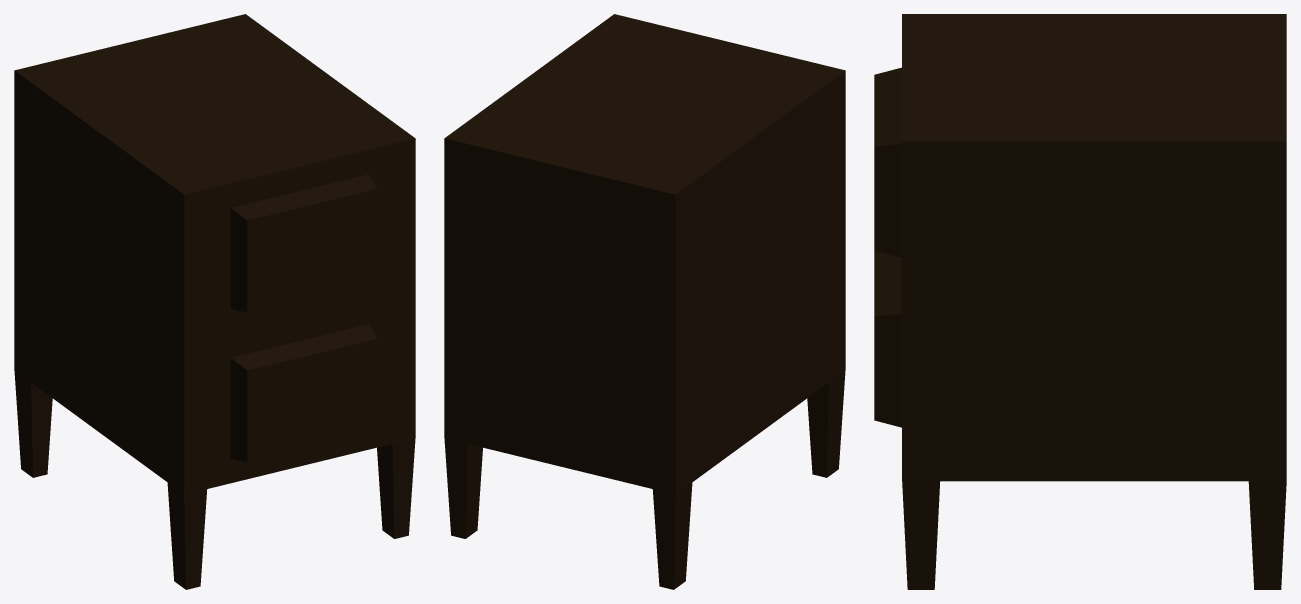
File: NightTable.FBX
3 renders of one model, left to right at view 1: azimuth 30°, elevation 25°; view 2: azimuth 150°, elevation 25°; view 3: azimuth 270°, elevation 25°, orthographic. The views are drawn at different scales.
Visible parts, largest first — view 1: NhgtTable; view 2: NhgtTable; view 3: NhgtTable.
Part boxes in pixels (x1,y1,x2,y2): NhgtTable: [14, 14, 415, 589]; NhgtTable: [444, 14, 845, 589]; NhgtTable: [874, 14, 1286, 589].
Size of the model in its own units: 55 by 90.49 by 75.08.
